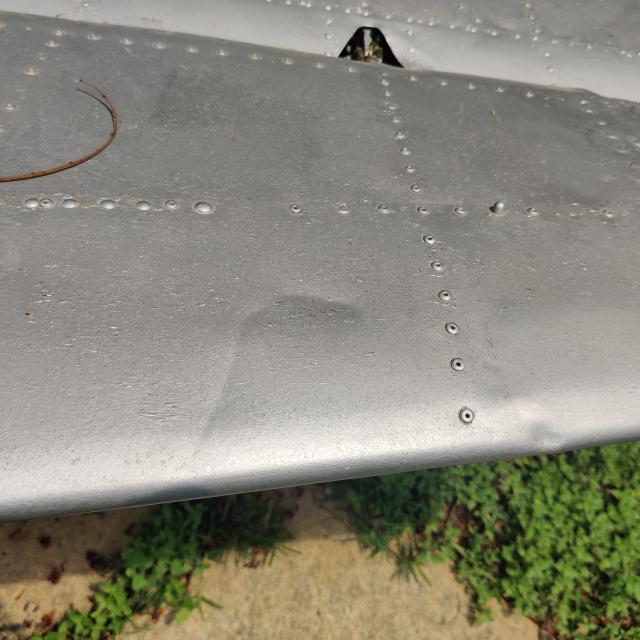dent: (160, 294, 309, 465), (258, 241, 388, 358), (508, 394, 589, 476)
